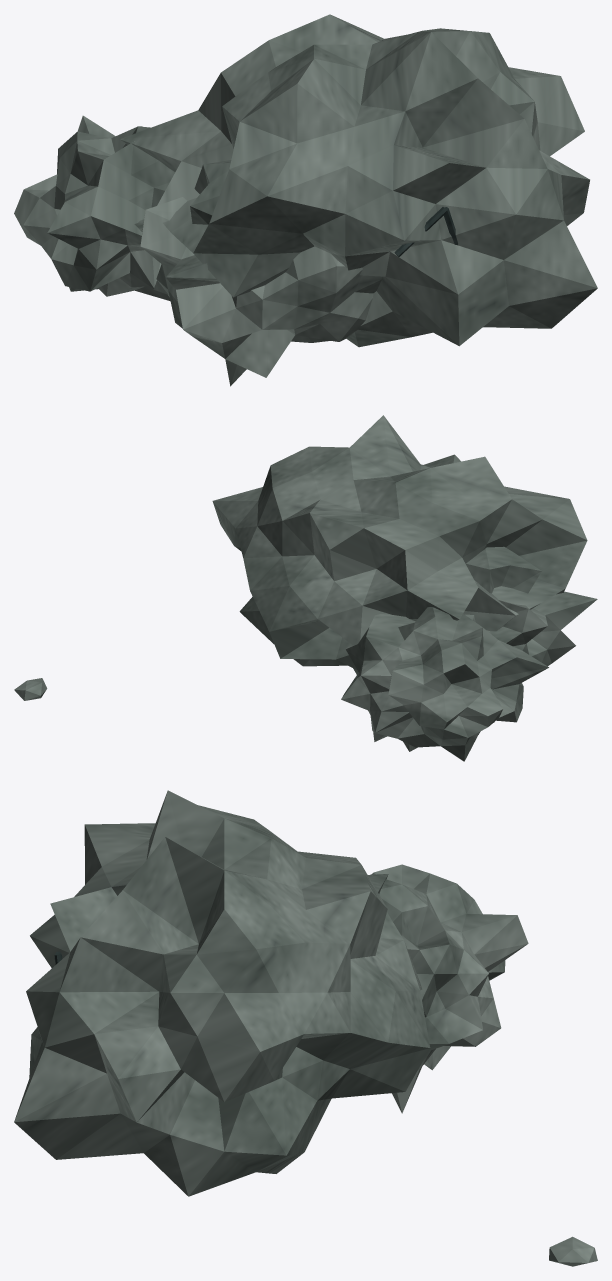
Rendered from 0012_boulder_12.glb.
3 views of the same model, one above another, from view 1: azimuth 30°, elevation 25°; view 2: azimuth 150°, elevation 25°; view 3: azimuth 270°, elevation 25° (orthographic). The views are drawn at different scales.
Parts seen in each view (by area): view 1: stone, stone_dark; view 2: stone; view 3: stone.
Part boxes in pixels (x1=…): stone: x1=14, y1=14, x2=597, y2=386; stone_dark: x1=394, y1=207, x2=457, y2=256; stone: x1=14, y1=415, x2=597, y2=761; stone: x1=14, y1=790, x2=597, y2=1266.
Bounding box in the file's own units: 2.46 × 1.37 × 2.07.
2 materials, 2 textured.
